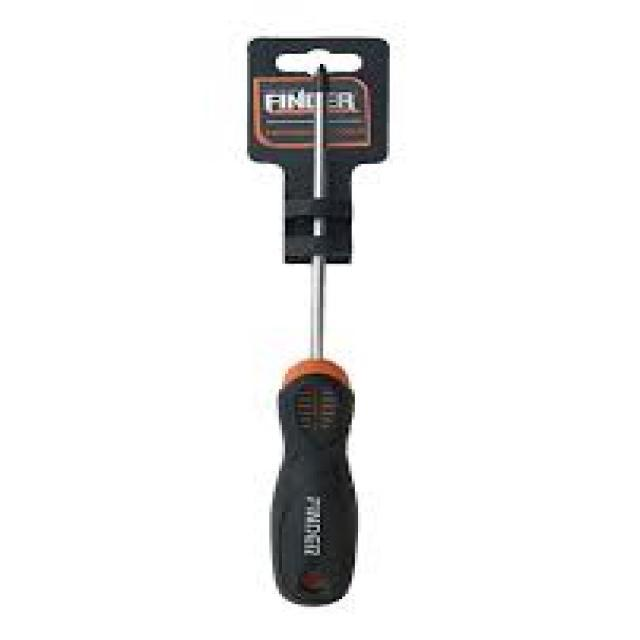screwdriver: (269, 60, 358, 611)
